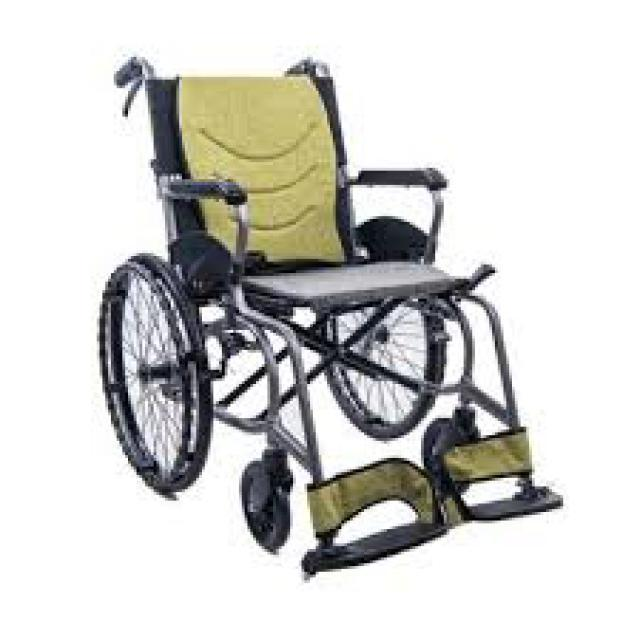wheelchair: (97, 42, 577, 592)
